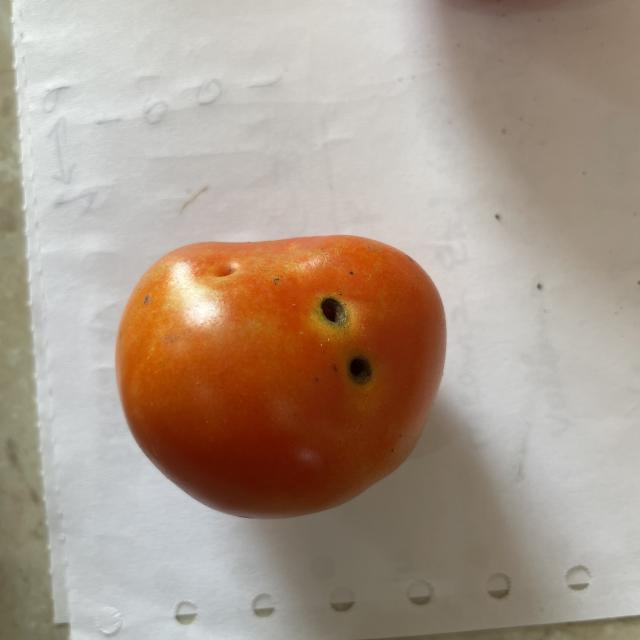fruitworm_bore: (312, 289, 373, 396)
